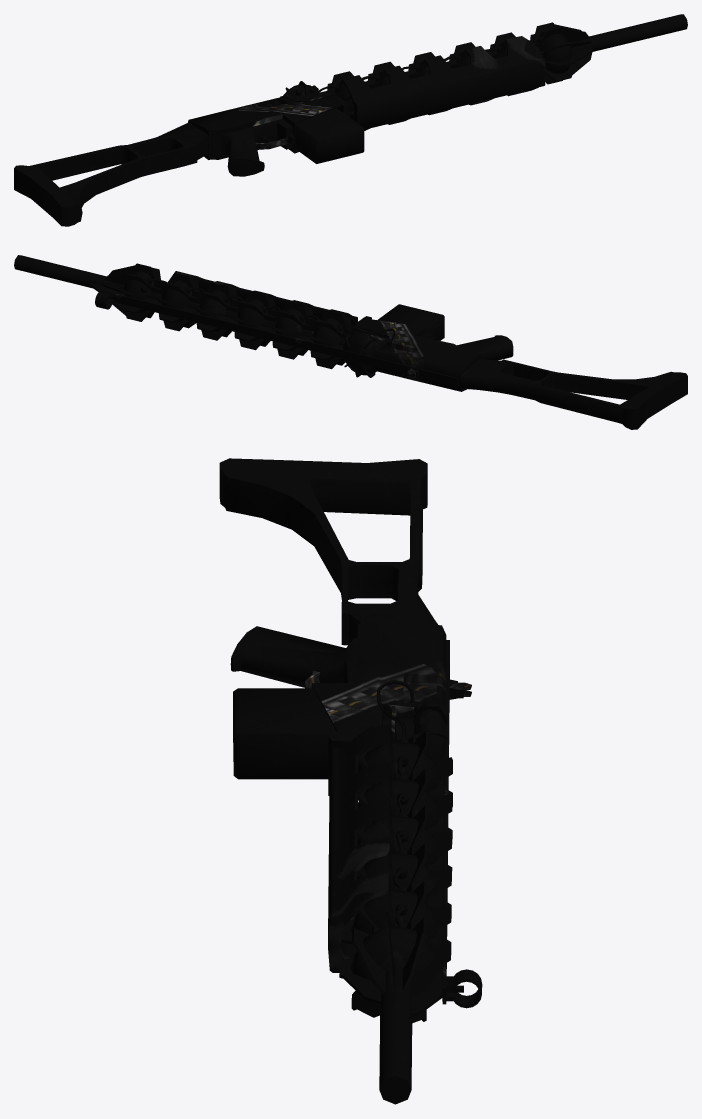
Rendered from gauss.obj.
The picture shows the model from 3 angles, top to bottom: view 1: azimuth 30°, elevation 25°; view 2: azimuth 150°, elevation 25°; view 3: azimuth 270°, elevation 25°; orthographic projection. The views are drawn at different scales.
Parts seen in each view (by area): view 1: gunModel, ammoModel; view 2: gunModel, ammoModel; view 3: gunModel, ammoModel.
Part boxes in pixels (left/top/right/bottom): gunModel: left=14, top=14, right=687, bottom=226; ammoModel: left=295, top=108, right=364, bottom=163; gunModel: left=14, top=255, right=687, bottom=429; ammoModel: left=377, top=304, right=444, bottom=340; gunModel: left=219, top=458, right=482, bottom=1104; ammoModel: left=233, top=688, right=335, bottom=779.
Size of the model in its own units: 36.66 by 2.91 by 6.63.
